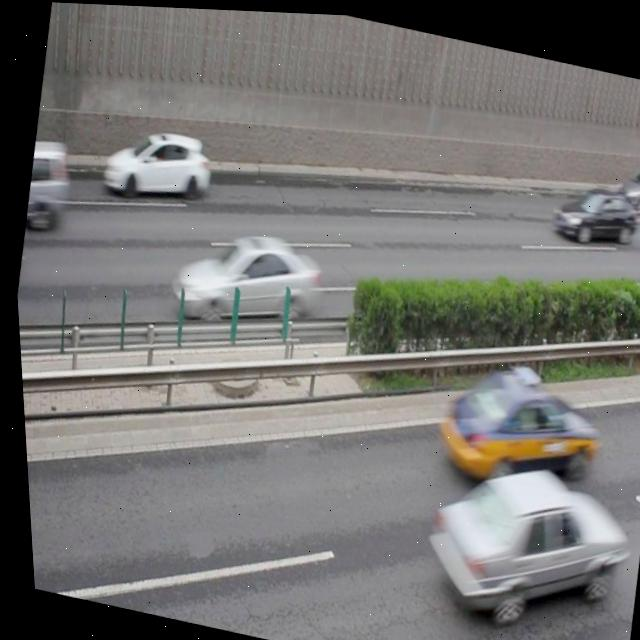car: (404, 437, 626, 639), (424, 351, 602, 495), (159, 214, 324, 338), (95, 112, 217, 209), (543, 171, 638, 249), (19, 131, 76, 233), (613, 154, 640, 211)
